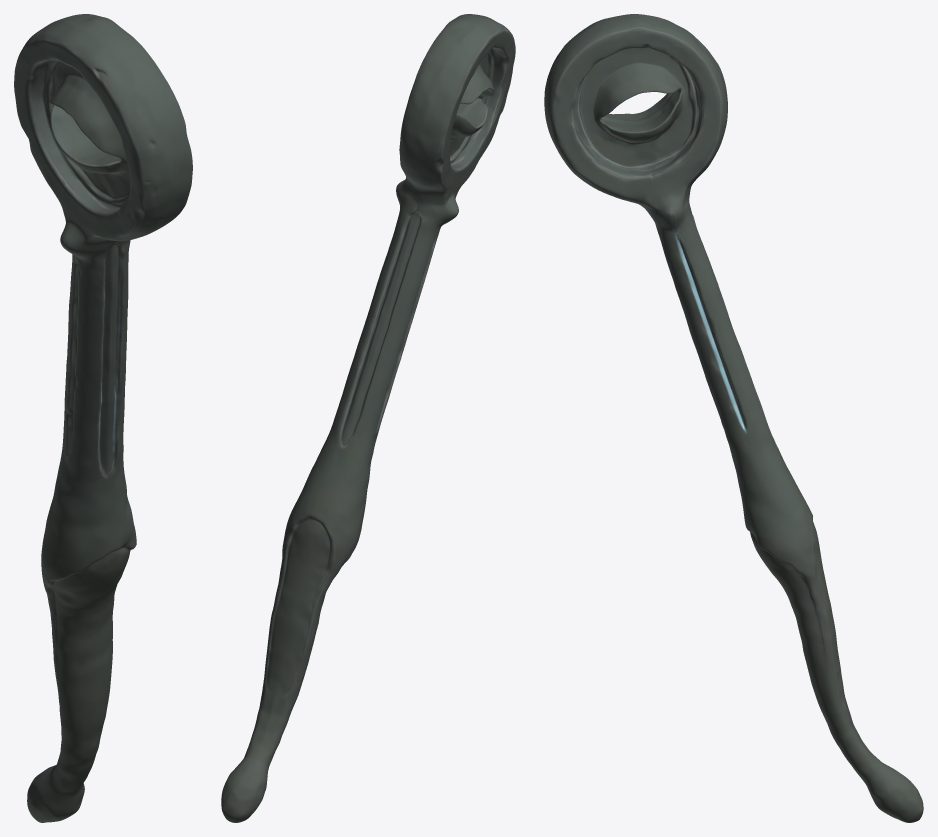
File: object_toothless_key.glb
The picture shows the model from 3 angles, left to right: view 1: azimuth 30°, elevation 25°; view 2: azimuth 150°, elevation 25°; view 3: azimuth 270°, elevation 25°; orthographic projection. The views are drawn at different scales.
Visible parts, largest first — view 1: tripo_node_caafafbf-46c6-481a-8e7a-bf3f32309e6c; view 2: tripo_node_caafafbf-46c6-481a-8e7a-bf3f32309e6c; view 3: tripo_node_caafafbf-46c6-481a-8e7a-bf3f32309e6c.
Boxes of the visible parts, x1,y1,x2,y2 form: tripo_node_caafafbf-46c6-481a-8e7a-bf3f32309e6c: [14, 14, 192, 822]; tripo_node_caafafbf-46c6-481a-8e7a-bf3f32309e6c: [221, 14, 515, 822]; tripo_node_caafafbf-46c6-481a-8e7a-bf3f32309e6c: [544, 14, 923, 822].
Bounding box in the file's own units: 0.2026 × 1 × 0.4551.
1 material, 1 textured.
